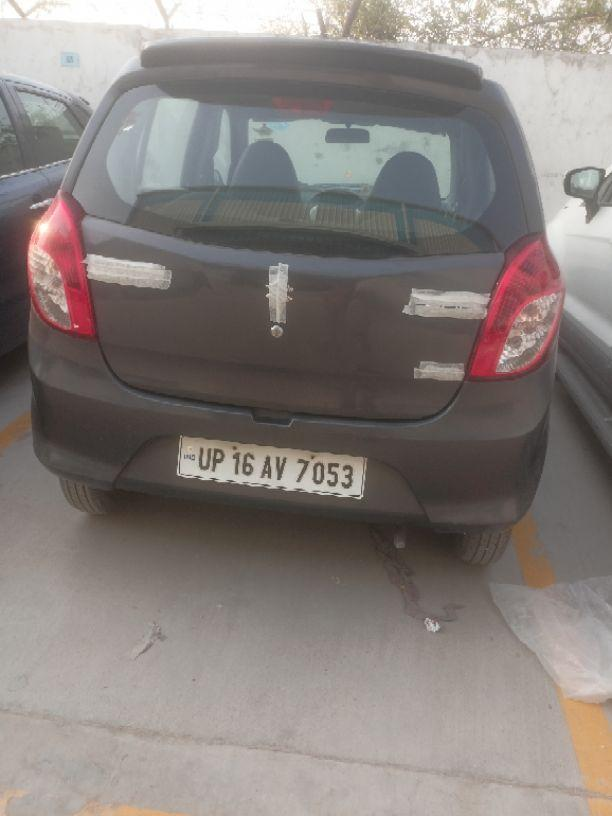license_plate: (175, 433, 367, 500)
